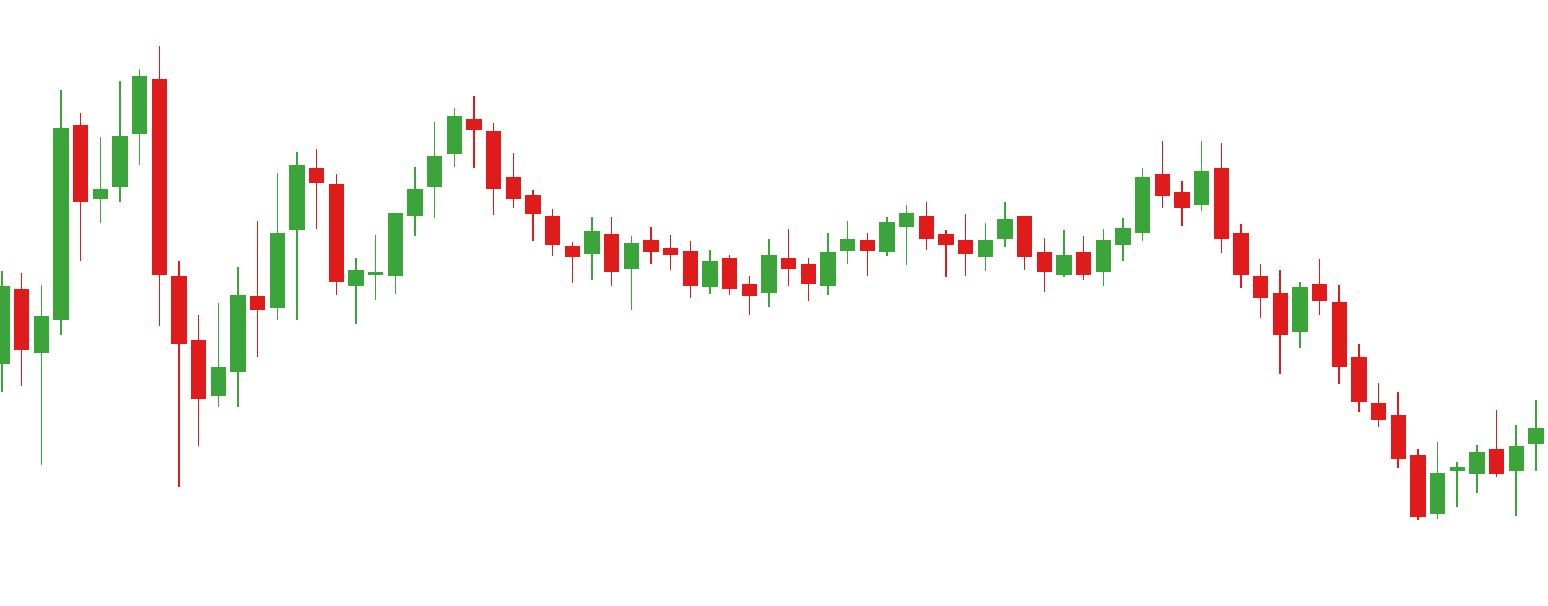buy: (30, 168, 190, 503)
sell: (284, 90, 504, 265), (992, 135, 1193, 252)
